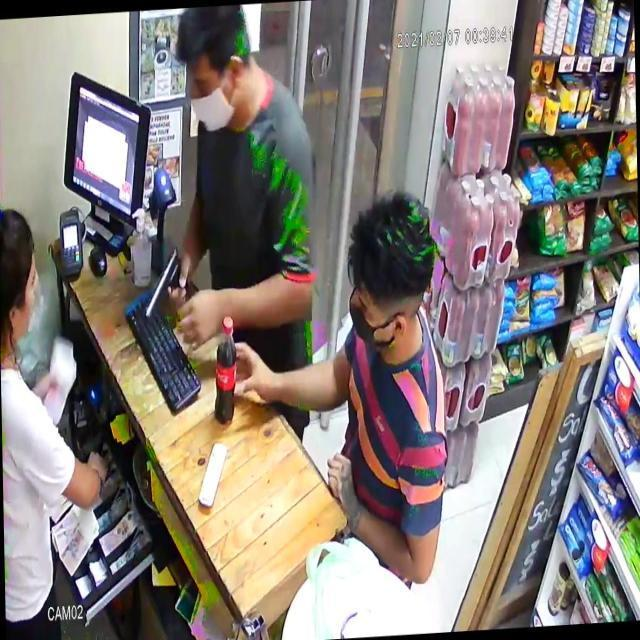pistol: (140, 238, 197, 340)
